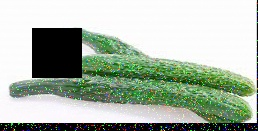cucumber: (70, 30, 253, 93), (7, 78, 249, 120)
